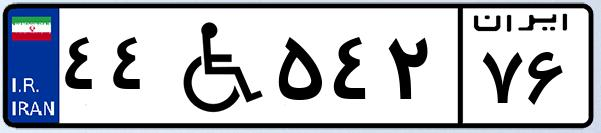2: (385, 28, 445, 110)
4: (330, 28, 385, 110), (57, 26, 110, 100), (110, 28, 158, 98)
5: (270, 28, 330, 110)
6: (525, 38, 570, 115)
7: (475, 38, 525, 113)
ژ (معلولین و جانبازان): (158, 12, 270, 120)
